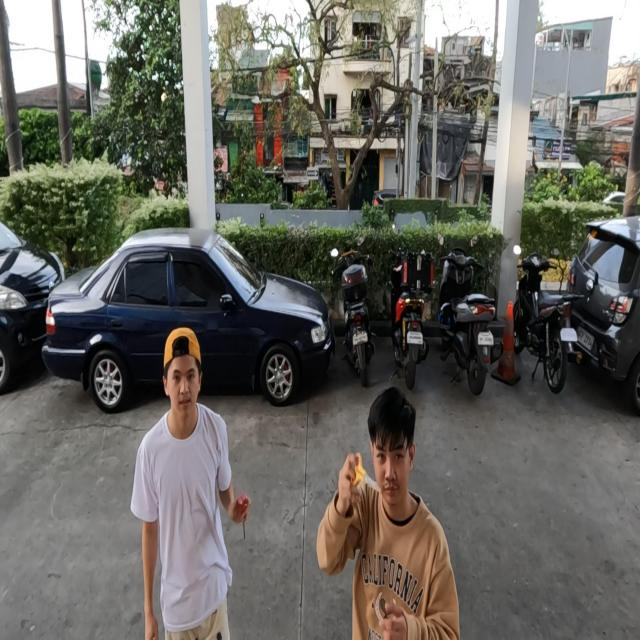scissor: (349, 451, 382, 494), (236, 491, 249, 541)
